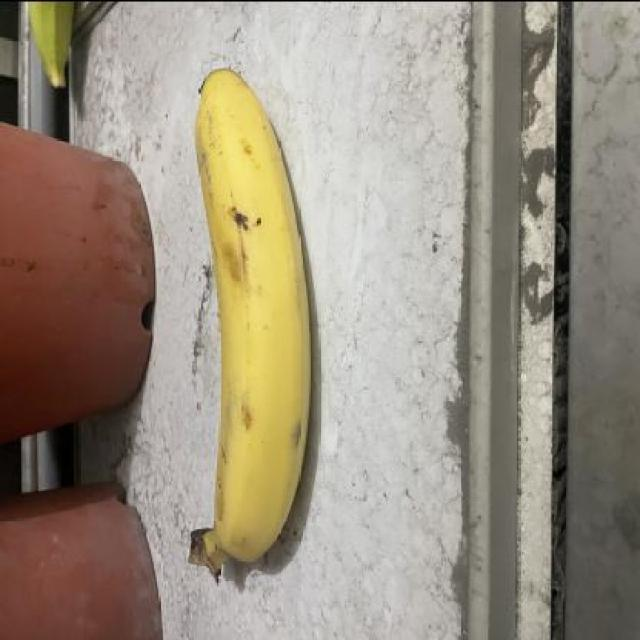banana: (179, 62, 318, 588)
